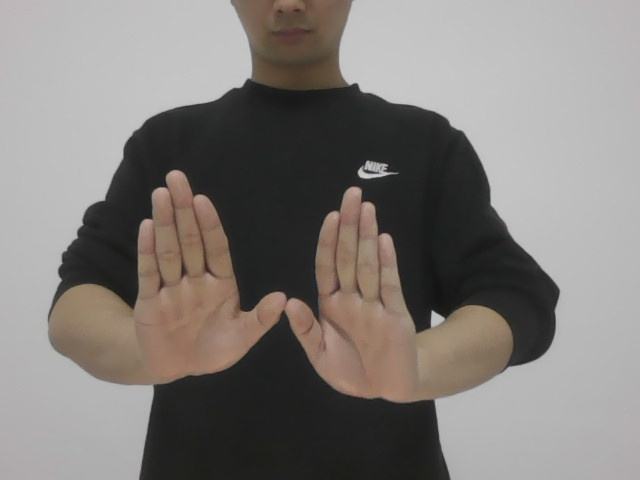door: (121, 163, 442, 411)
